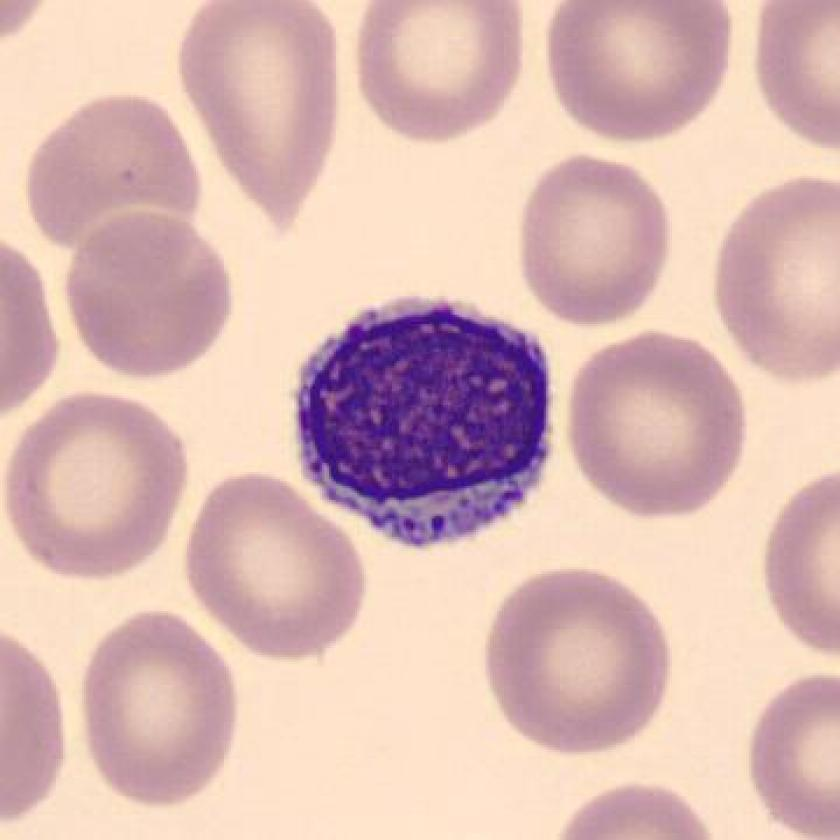lymphocyte: (281, 281, 575, 568)
